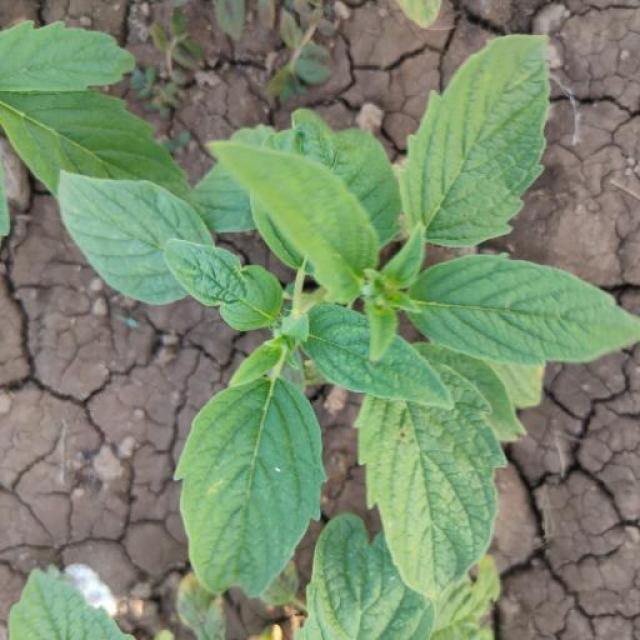crop: (33, 31, 638, 598)
